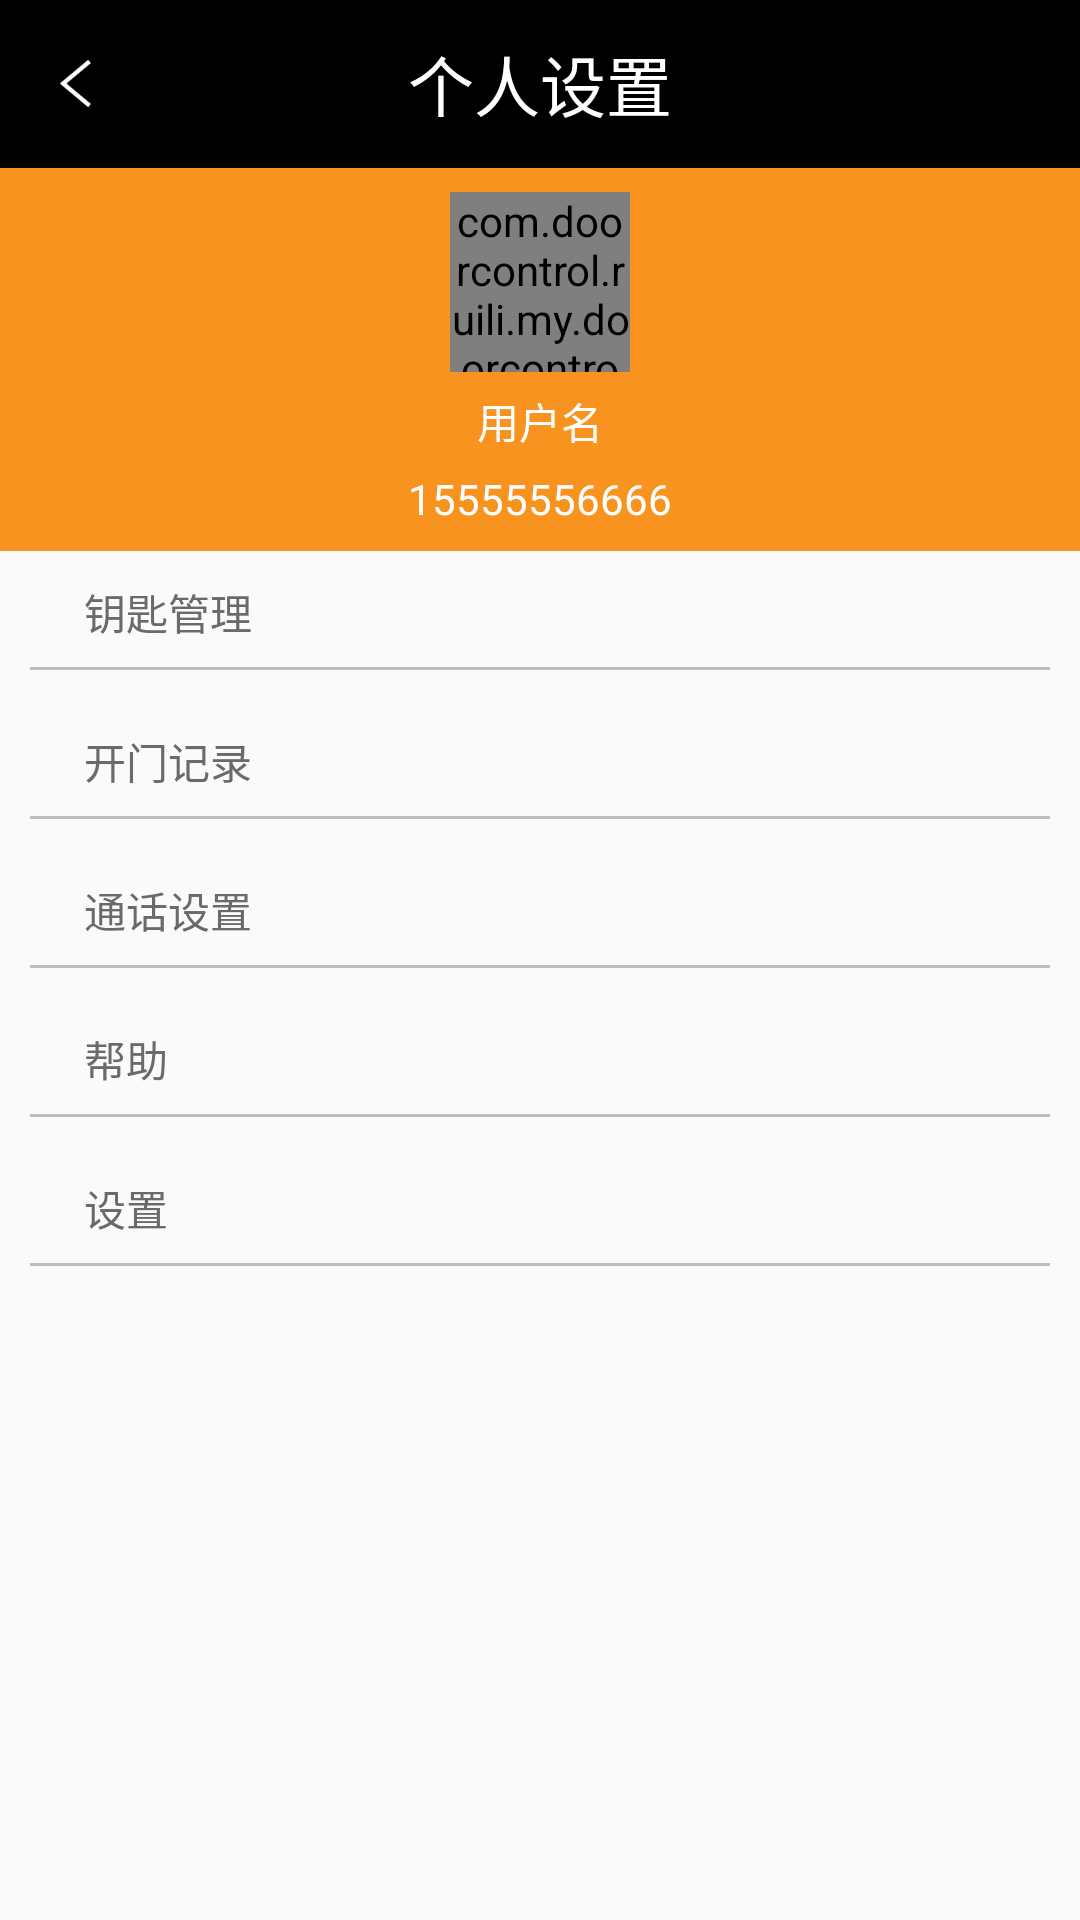

Named icons in this screenshot (1080×1920) and their bounding boxes, [x1=x1, y1=y1, x2=x2, y2=y2]:
back: [x1=60, y1=60, x2=91, y2=107]
